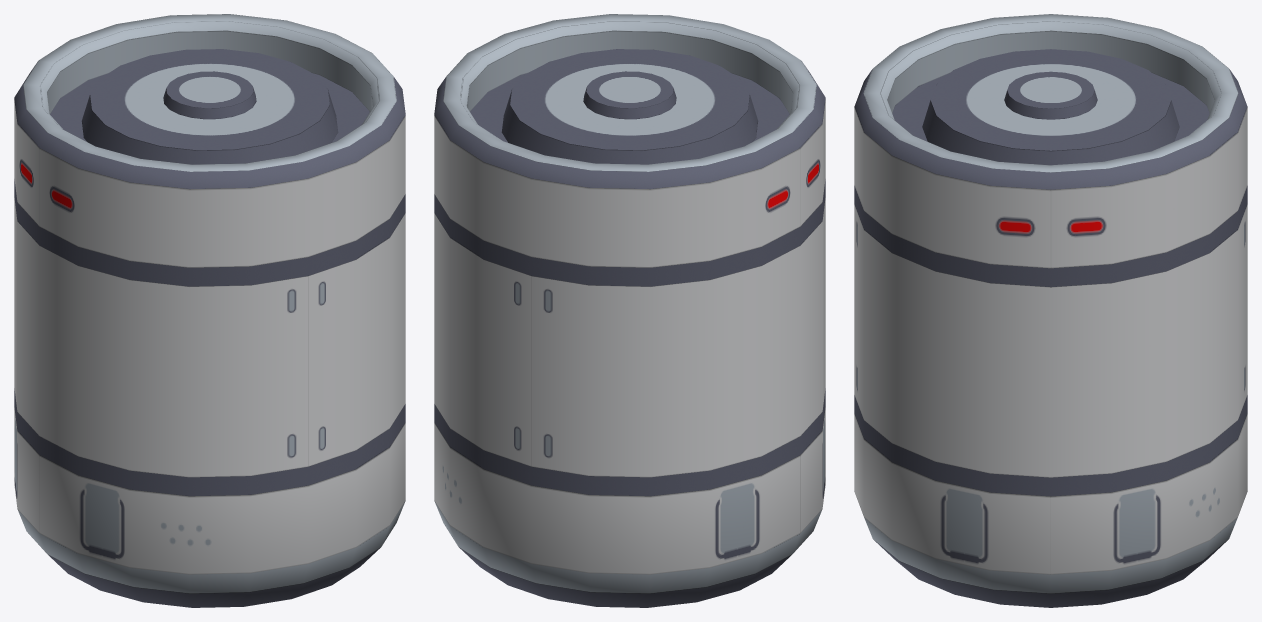
Rendered from Barrel_02.FBX.
3 views of the same model, side by side, from view 1: azimuth 30°, elevation 25°; view 2: azimuth 150°, elevation 25°; view 3: azimuth 270°, elevation 25° (orthographic).
Parts seen in each view (by area): view 1: Barrel_02; view 2: Barrel_02; view 3: Barrel_02.
Boxes of the visible parts, bbox=[...] form: Barrel_02: bbox=[14, 14, 405, 607]; Barrel_02: bbox=[434, 14, 825, 607]; Barrel_02: bbox=[854, 14, 1247, 607].
Bounding box in the file's own units: 1 × 1.26 × 1.
